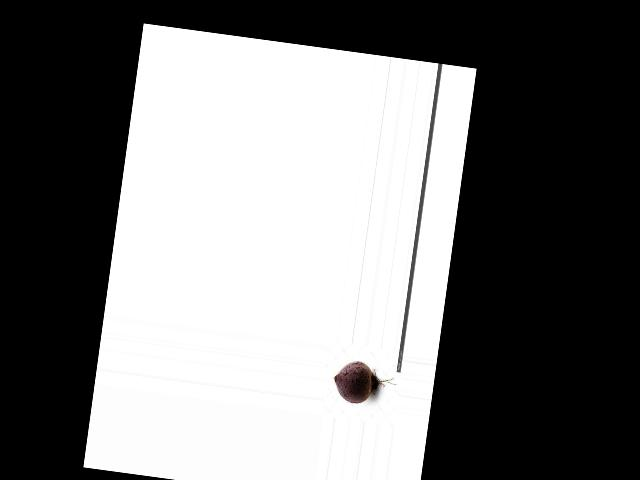beet: (331, 357, 399, 408)
